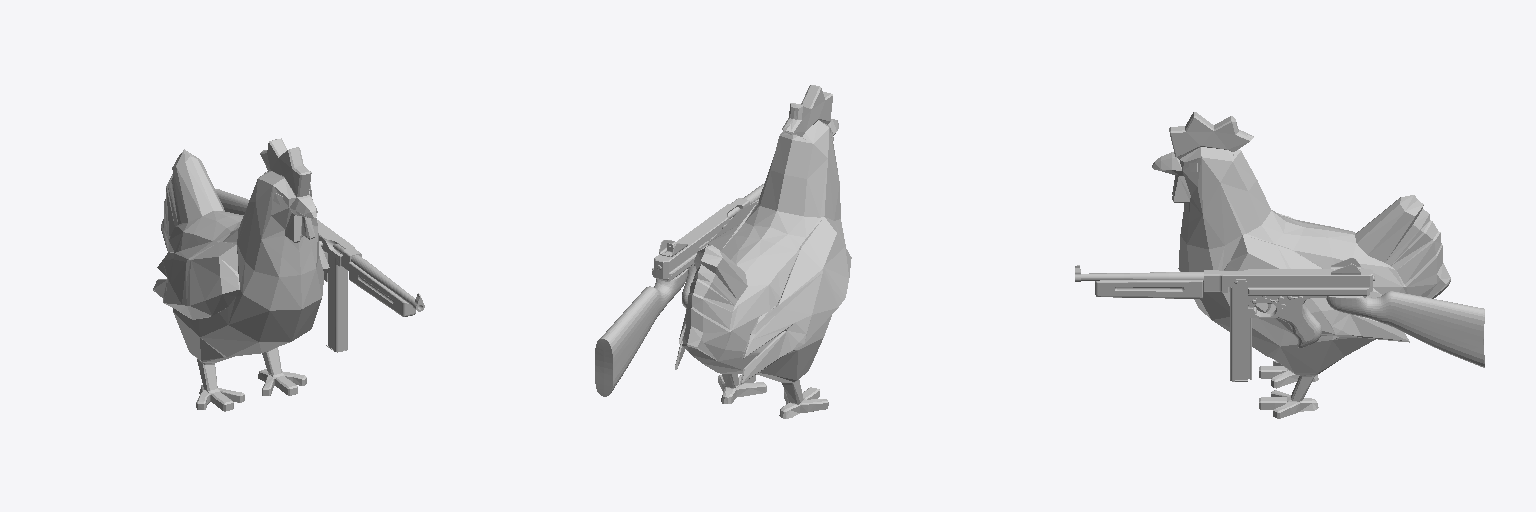
File: chicken-thompson.obj
The picture shows the model from 3 angles: view 1: azimuth 30°, elevation 25°; view 2: azimuth 150°, elevation 25°; view 3: azimuth 270°, elevation 25°; orthographic projection.
Parts seen in each view (by area): view 1: chicken_VRay, gun_M1A1; view 2: chicken_VRay, gun_M1A1; view 3: chicken_VRay, gun_M1A1.
Boxes of the visible parts, x1=… form: chicken_VRay: x1=153, y1=138, x2=329, y2=411; gun_M1A1: x1=215, y1=189, x2=424, y2=352; chicken_VRay: x1=675, y1=85, x2=851, y2=418; gun_M1A1: x1=595, y1=183, x2=764, y2=396; chicken_VRay: x1=1152, y1=112, x2=1450, y2=418; gun_M1A1: x1=1075, y1=258, x2=1484, y2=381.
Bounding box in the file's own units: 6.11 × 11.29 × 14.99.